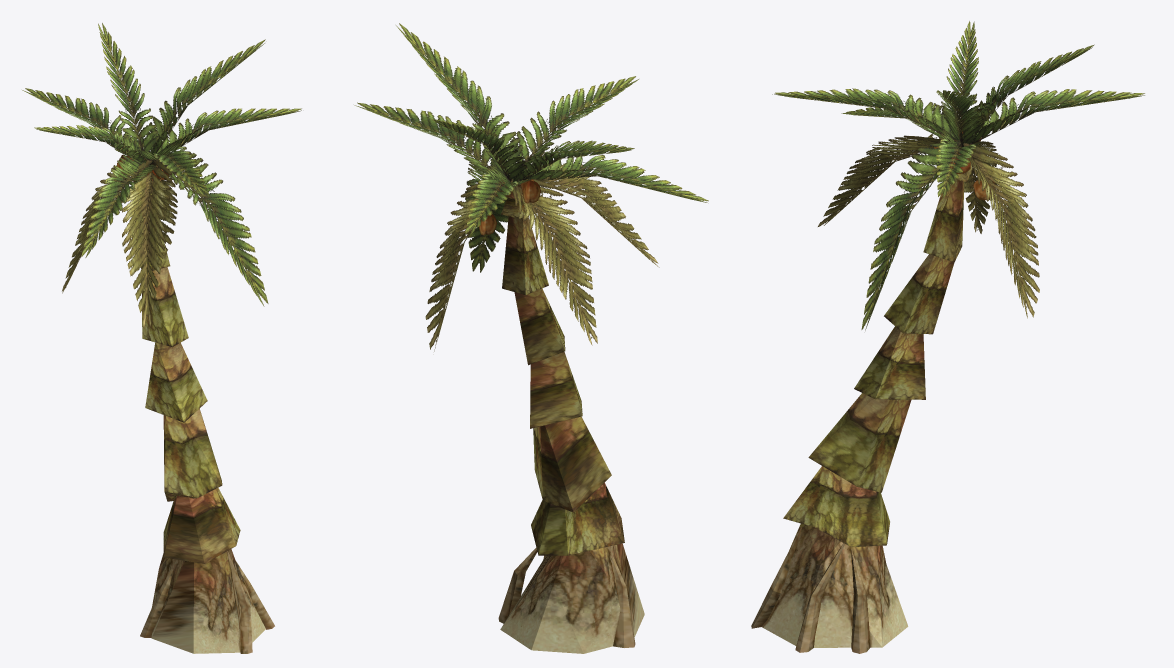
Rendered from C3SNPALMA.obj.
The picture shows the model from 3 angles, left to right: view 1: azimuth 30°, elevation 25°; view 2: azimuth 150°, elevation 25°; view 3: azimuth 270°, elevation 25°; orthographic projection. The views are drawn at different scales.
Visible parts, largest first — view 1: Node 0; view 2: Node 0; view 3: Node 0.
Boxes of the visible parts, box(x1,y1,x2,y2) form: Node 0: box(22, 23, 301, 653); Node 0: box(354, 23, 708, 653); Node 0: box(751, 21, 1144, 653).
Size of the model in its own units: 5.63 by 10.16 by 6.29.
Materials: 1 (1 with a texture image).
